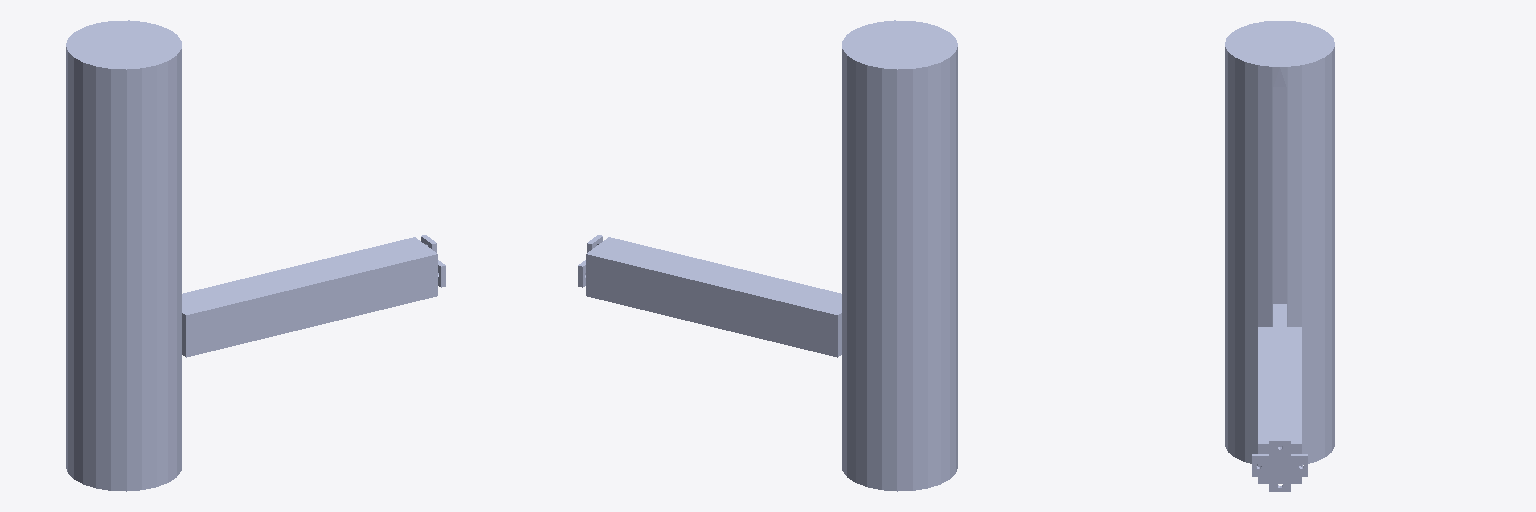
robot.urdf — ASm13.SLDASM:
<?xml version="1.0" encoding="utf-8"?>
<!-- This URDF was automatically created by SolidWorks to URDF Exporter! Originally created by Stephen Brawner (brawner@gmail.com) 
     Commit Version: 1.6.0-4-g7f85cfe  Build Version: 1.6.7995.38578
     For more information, please see http://wiki.ros.org/sw_urdf_exporter -->
<robot
  name="ASm13.SLDASM">
  <link
    name="base_link">
    <inertial>
      <origin
        xyz="4.22090353071666E-17 1.06356686790483E-17 0.00653540570447093"
        rpy="0 0 0" />
      <mass
        value="0.664982297150257" />
      <inertia
        ixx="0.00329856876483954"
        ixy="7.54388718648361E-19"
        ixz="5.0383236756357E-20"
        iyy="0.00329856876483953"
        iyz="4.66545178511237E-19"
        izz="0.00652792878718117" />
    </inertial>
    <visual>
      <origin
        xyz="0 0 0"
        rpy="0 0 0" />
      <geometry>
        <mesh
          filename="package://ASm13.SLDASM/meshes/base_link.STL" />
      </geometry>
      <material
        name="">
        <color
          rgba="0.792156862745098 0.819607843137255 0.933333333333333 1" />
      </material>
    </visual>
    <collision>
      <origin
        xyz="0 0 0"
        rpy="0 0 0" />
      <geometry>
        <mesh
          filename="package://ASm13.SLDASM/meshes/base_link.STL" />
      </geometry>
    </collision>
  </link>
  <link
    name="Link1">
    <inertial>
      <origin
        xyz="-0.001425 2.2279E-16 0.21022"
        rpy="0 0 0" />
      <mass
        value="2.9332" />
      <inertia
        ixx="0.041136"
        ixy="2.0885E-19"
        ixz="0.00016627"
        iyy="0.040993"
        iyz="-4.7403E-17"
        izz="0.0037366" />
    </inertial>
    <visual>
      <origin
        xyz="0 0 0"
        rpy="0 0 0" />
      <geometry>
        <mesh
          filename="package://ASm13.SLDASM/meshes/Link1.STL" />
      </geometry>
      <material
        name="">
        <color
          rgba="0.79216 0.81961 0.93333 1" />
      </material>
    </visual>
    <collision>
      <origin
        xyz="0 0 0"
        rpy="0 0 0" />
      <geometry>
        <mesh
          filename="package://ASm13.SLDASM/meshes/Link1.STL" />
      </geometry>
    </collision>
  </link>
  <joint
    name="q1"
    type="continuous">
    <origin
      xyz="0 0 0"
      rpy="0 0 0" />
    <parent
      link="base_link" />
    <child
      link="Link1" />
    <axis
      xyz="0 0 1" />
  </joint>
  <link
    name="Link2">
    <inertial>
      <origin
        xyz="0.072575 -3.9001E-18 0"
        rpy="0 0 0" />
      <mass
        value="0.25536" />
      <inertia
        ixx="8.8375E-05"
        ixy="2.5244E-19"
        ixz="6.0839E-20"
        iyy="0.0018664"
        iyz="1.2315E-20"
        izz="0.0018635" />
    </inertial>
    <visual>
      <origin
        xyz="0 0 0"
        rpy="0 0 0" />
      <geometry>
        <mesh
          filename="package://ASm13.SLDASM/meshes/Link2.STL" />
      </geometry>
      <material
        name="">
        <color
          rgba="0.79216 0.81961 0.93333 1" />
      </material>
    </visual>
    <collision>
      <origin
        xyz="0 0 0"
        rpy="0 0 0" />
      <geometry>
        <mesh
          filename="package://ASm13.SLDASM/meshes/Link2.STL" />
      </geometry>
    </collision>
  </link>
  <joint
    name="q2"
    type="prismatic">
    <origin
      xyz="0 0 0"
      rpy="0 0 0" />
    <parent
      link="Link1" />
    <child
      link="Link2" />
    <axis
      xyz="0 0 1" />
    <limit
      lower="0"
      upper="0.24"
      effort="1000"
      velocity="1.0" />
  </joint>
  <link
    name="Link3">
    <inertial>
      <origin
        xyz="0.10777 -8.6534E-07 8.3267E-17"
        rpy="0 0 0" />
      <mass
        value="0.10713" />
      <inertia
        ixx="1.0277E-05"
        ixy="1.0635E-08"
        ixz="-3.1729E-19"
        iyy="0.00056067"
        iyz="-5.9023E-21"
        izz="0.00056067" />
    </inertial>
    <visual>
      <origin
        xyz="0 0 0"
        rpy="0 0 0" />
      <geometry>
        <mesh
          filename="package://ASm13.SLDASM/meshes/Link3.STL" />
      </geometry>
      <material
        name="">
        <color
          rgba="0.79216 0.81961 0.93333 1" />
      </material>
    </visual>
    <collision>
      <origin
        xyz="0 0 0"
        rpy="0 0 0" />
      <geometry>
        <mesh
          filename="package://ASm13.SLDASM/meshes/Link3.STL" />
      </geometry>
    </collision>
  </link>
  <joint
    name="q3"
    type="prismatic">
    <origin
      xyz="0 0 0"
      rpy="0 0 0" />
    <parent
      link="Link2" />
    <child
      link="Link3" />
    <axis
      xyz="1 0 0" />
    <limit
      lower="0"
      upper="0.18"
      effort="1000"
      velocity="1.0" />
  </joint>
</robot>

--- Facts derived from the render (not from the file) ---
3 views of the same robot in one strip: view 1: azimuth 30°, elevation 25°; view 2: azimuth 150°, elevation 25°; view 3: azimuth 270°, elevation 25° (orthographic).
Robot: ASm13.SLDASM — 4 links, 3 joints (1 continuous, 2 prismatic); root link base_link; default pose: all joints at 0.
Visible links, largest first — view 1: Link1, Link2; view 2: Link1, Link2; view 3: Link1, Link2, Link3.
Boxes of the visible links, <box> form: Link1: <box>66,20,181,491</box>; Link2: <box>182,237,437,357</box>; Link1: <box>842,20,957,491</box>; Link2: <box>586,237,841,357</box>; Link1: <box>1225,21,1334,465</box>; Link2: <box>1258,304,1301,483</box>; Link3: <box>1252,439,1307,491</box>.
Size in the robot's own frame: 0.355 by 0.0998 by 0.4 metres.
3 mesh visuals loaded from 4 distinct referenced files (3 binary STL); not drawn: 1 (reference not matched to a file when rendering).
